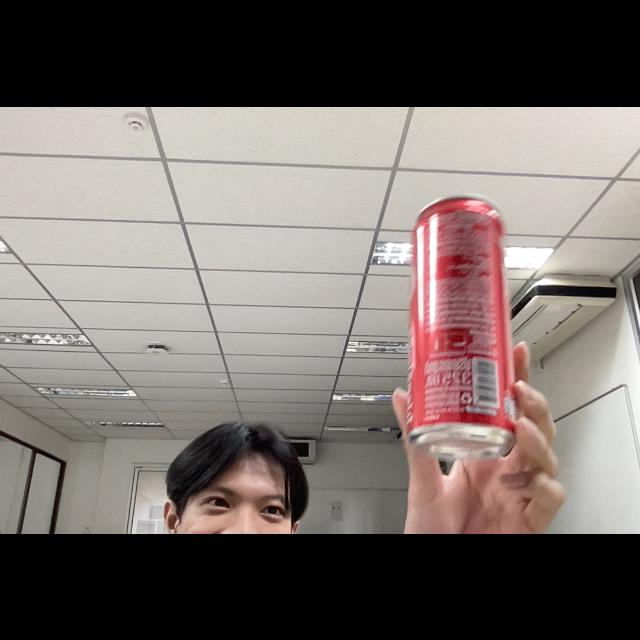plastic_bottle: (402, 186, 520, 469)
